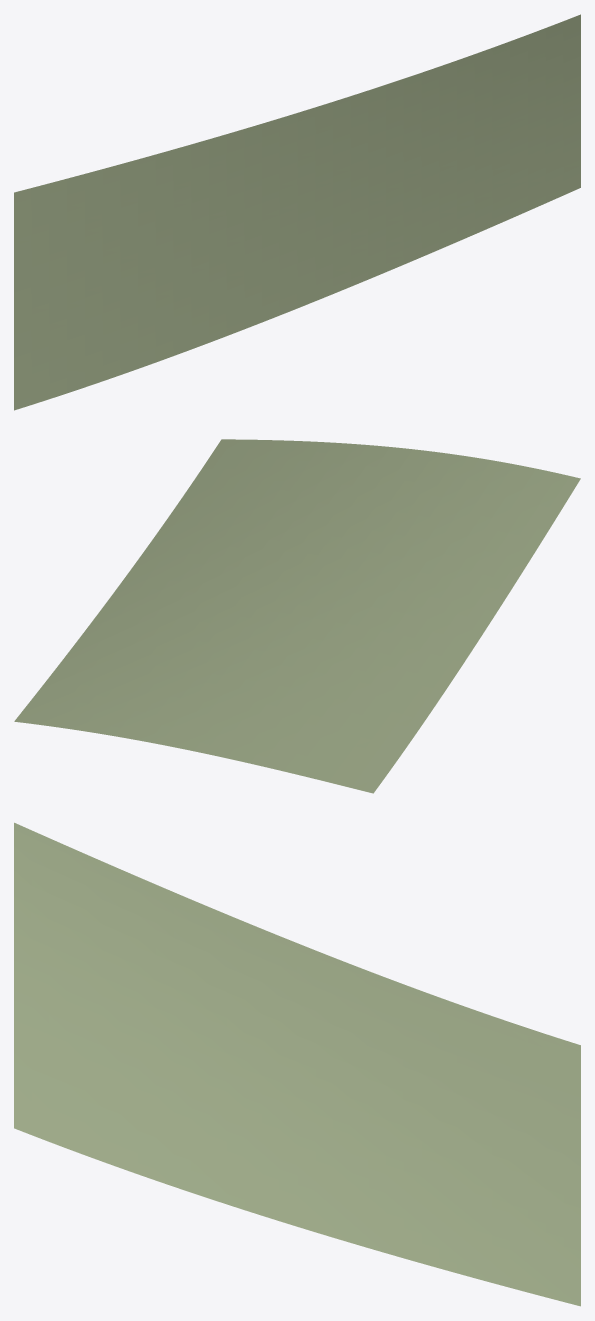
The model's file is alpine-14-6.glb.
3 views of the same model, one above another, from view 1: azimuth 90°, elevation 25°; view 2: azimuth 150°, elevation 25°; view 3: azimuth 270°, elevation 25° (orthographic). The views are drawn at different scales.
Visible parts, largest first — view 1: alpine-14-6; view 2: alpine-14-6; view 3: alpine-14-6.
Boxes of the visible parts, bbox=[...] form: alpine-14-6: bbox=[14, 14, 580, 410]; alpine-14-6: bbox=[14, 439, 580, 793]; alpine-14-6: bbox=[14, 822, 580, 1306].
Size of the model in its own units: 256 by 122 by 256.
